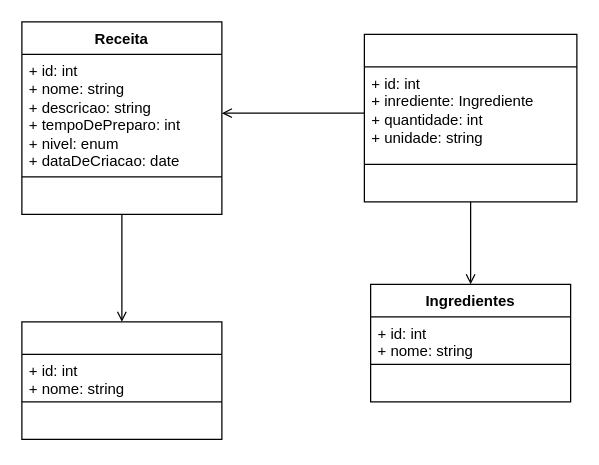
The diagram is 599 pixels wide and 465 high, and some of its shapes have lost their labels. The box of each missing label's shape, as (x1, y1, x2, y2) in pixels:
Categorias: (21, 321, 222, 439)
IngredienteReceita: (363, 33, 577, 202)
